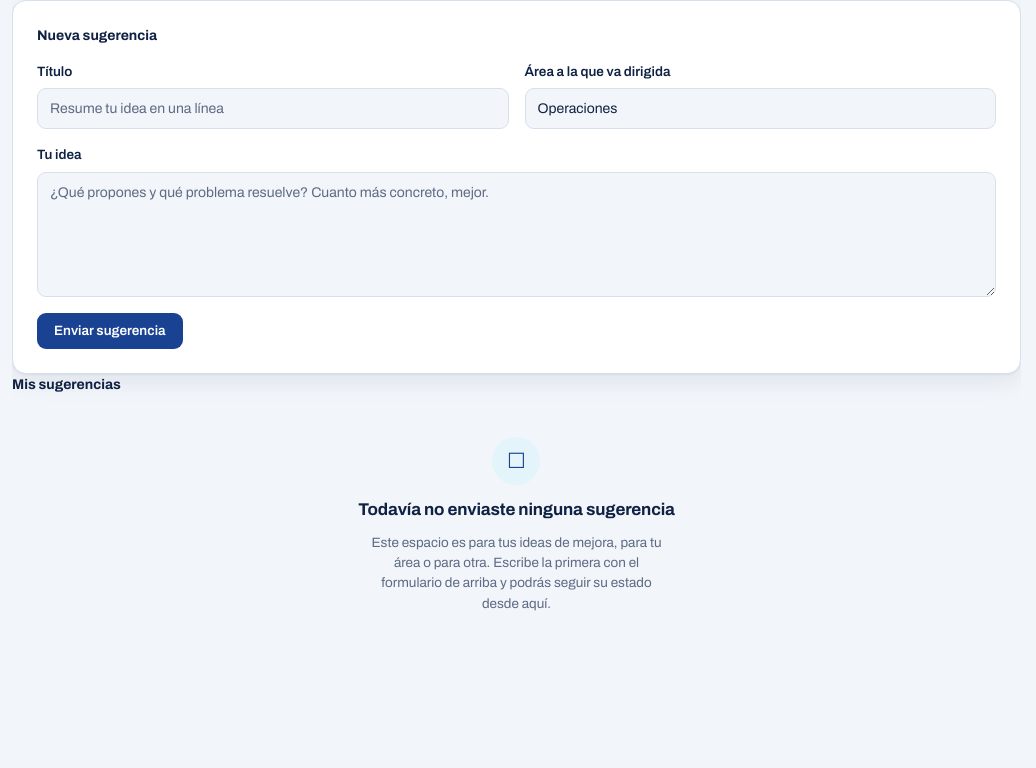
Test: el envío › no muestra la sugerencia si el servidor la rechazó
In the field labelled "Título": (273, 109) [37,88,508,129], type "Tablero de peajes"
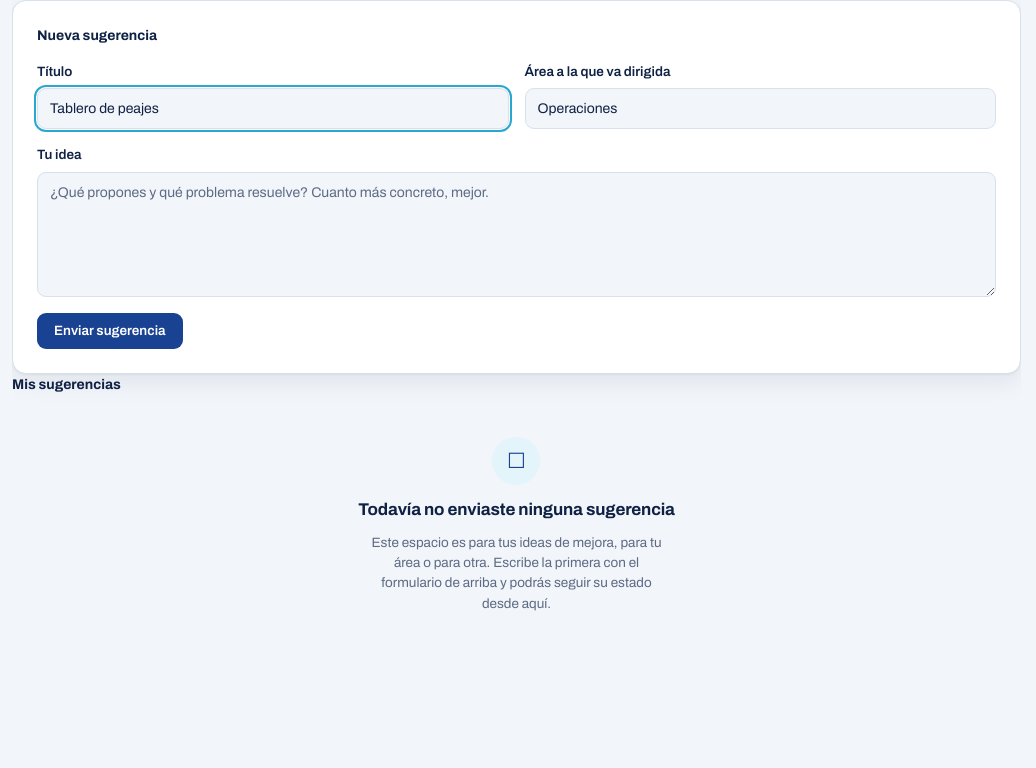
In the text box labelled "Tu idea": (516, 234) [37,172,996,296], type "Ver el flujo por caseta."
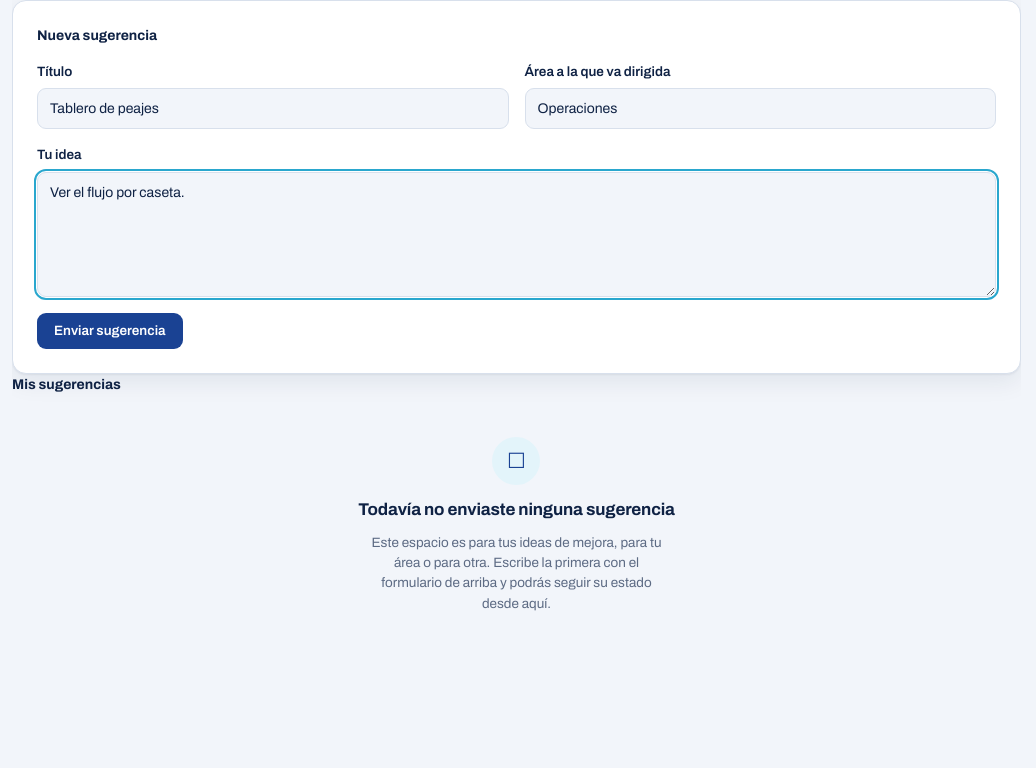
Click the button "Enviar sugerencia": (110, 331) [37,312,183,349]
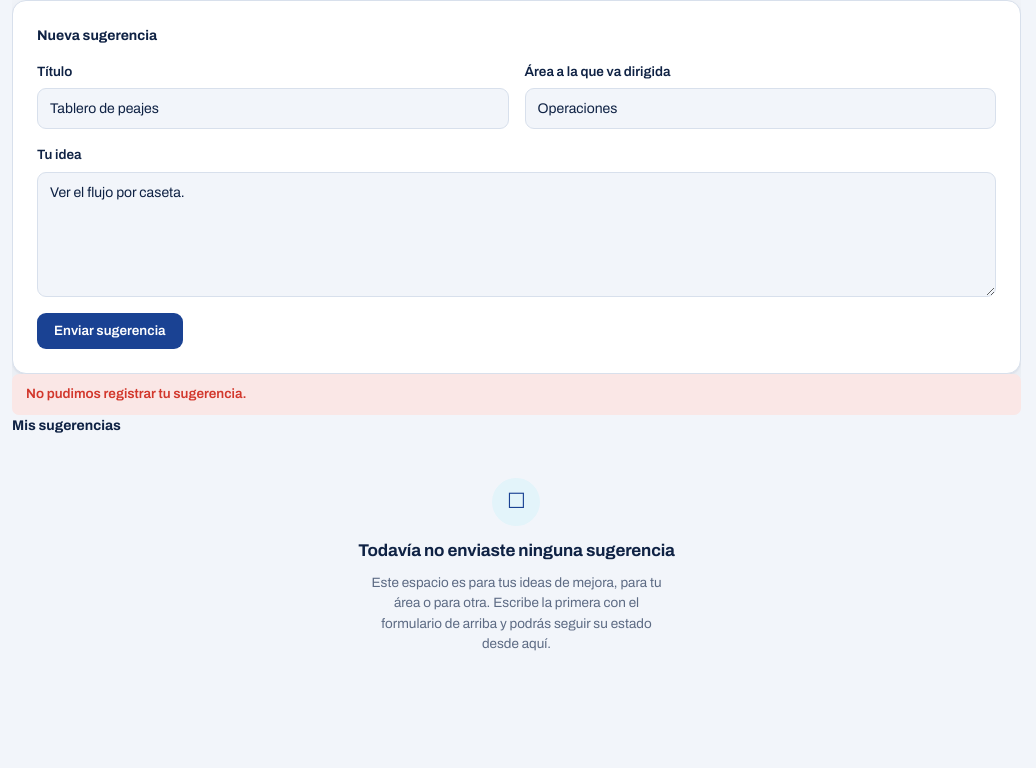
Expected: the message "No pudimos registrar tu sugerencia." is shown, [12,374,1021,415]
